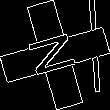N_E: (25, 29, 85, 81)
